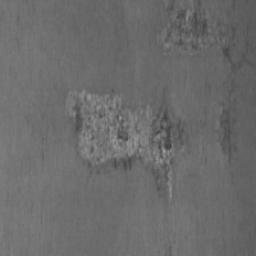Rolled pit: (66, 91, 184, 198), (160, 8, 237, 163)
